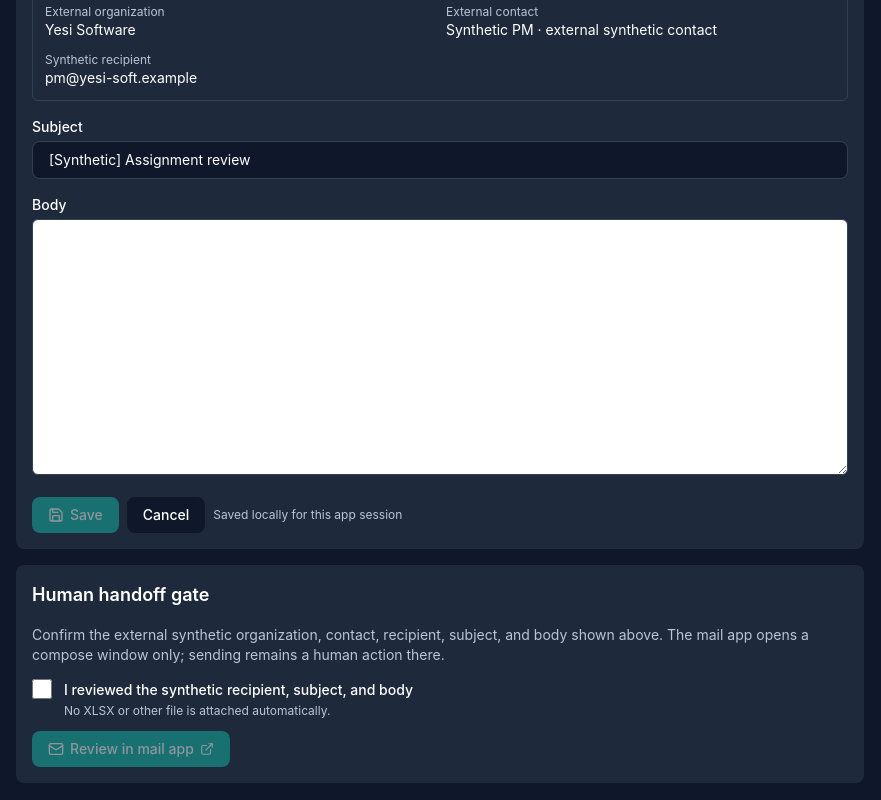
AssignmentEmailDraftPage (#9627) › coalesces repeated activation while the OS handoff is in flight
(page scrolled)
Click the checkbox with test id "assignment-email-confirm" at (42, 689), box [32,679,52,699]
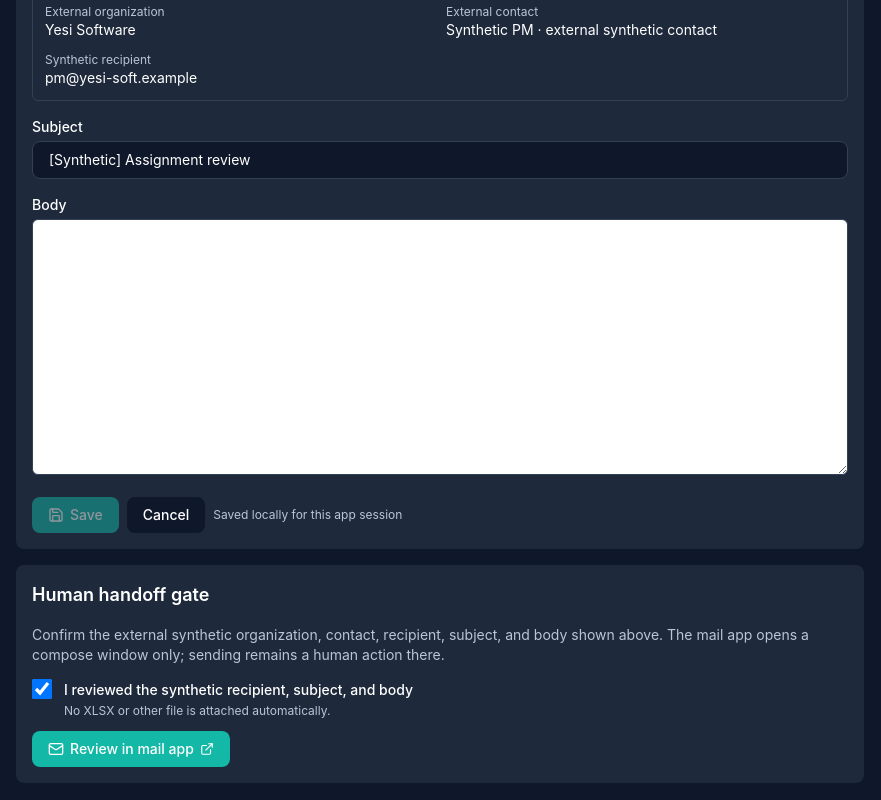
Click the button with test id "assignment-email-handoff" at (131, 749), box [32,731,230,767]
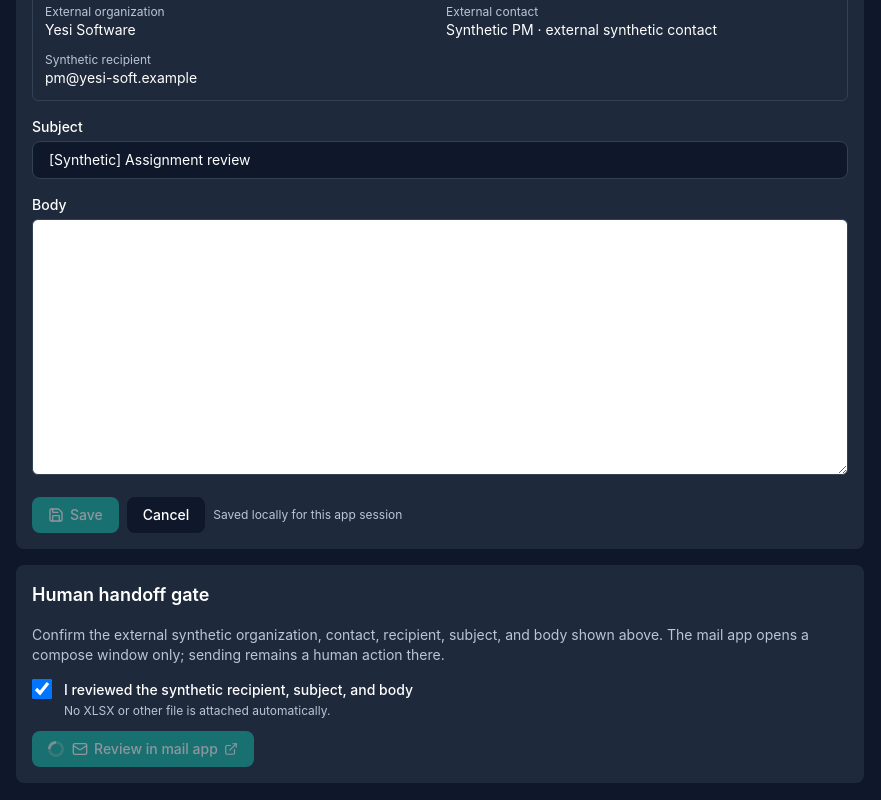
Click the button with test id "assignment-email-handoff" at (143, 749), box [32,731,254,767]
(page scrolled)
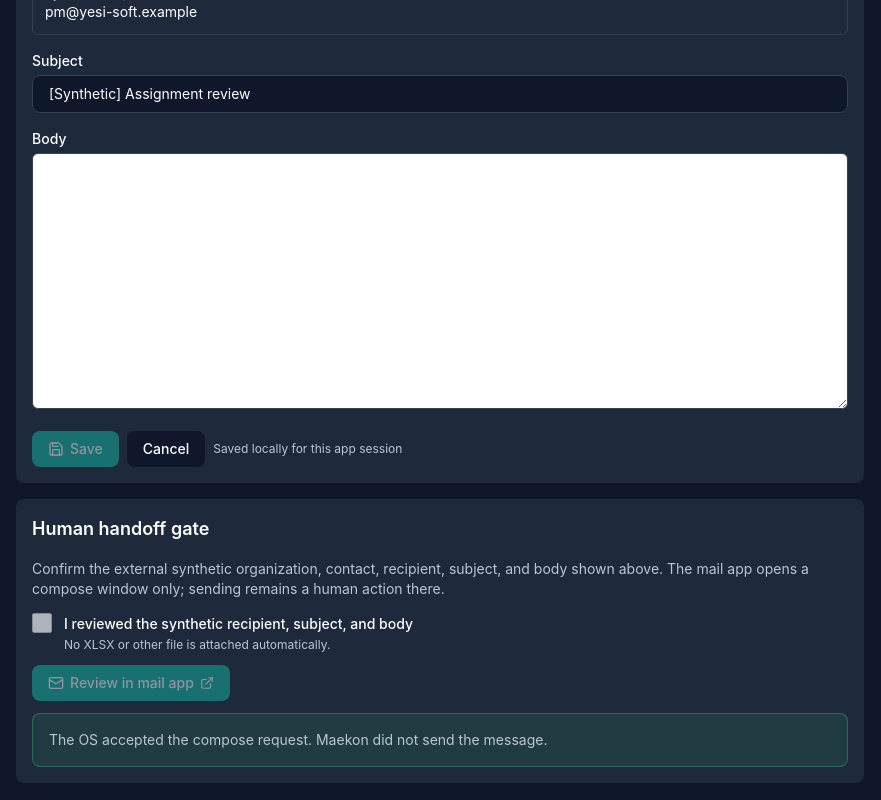
Result: the message "The OS accepted the compose request. Maekon did not send the message." is shown at [32,713,848,767]
